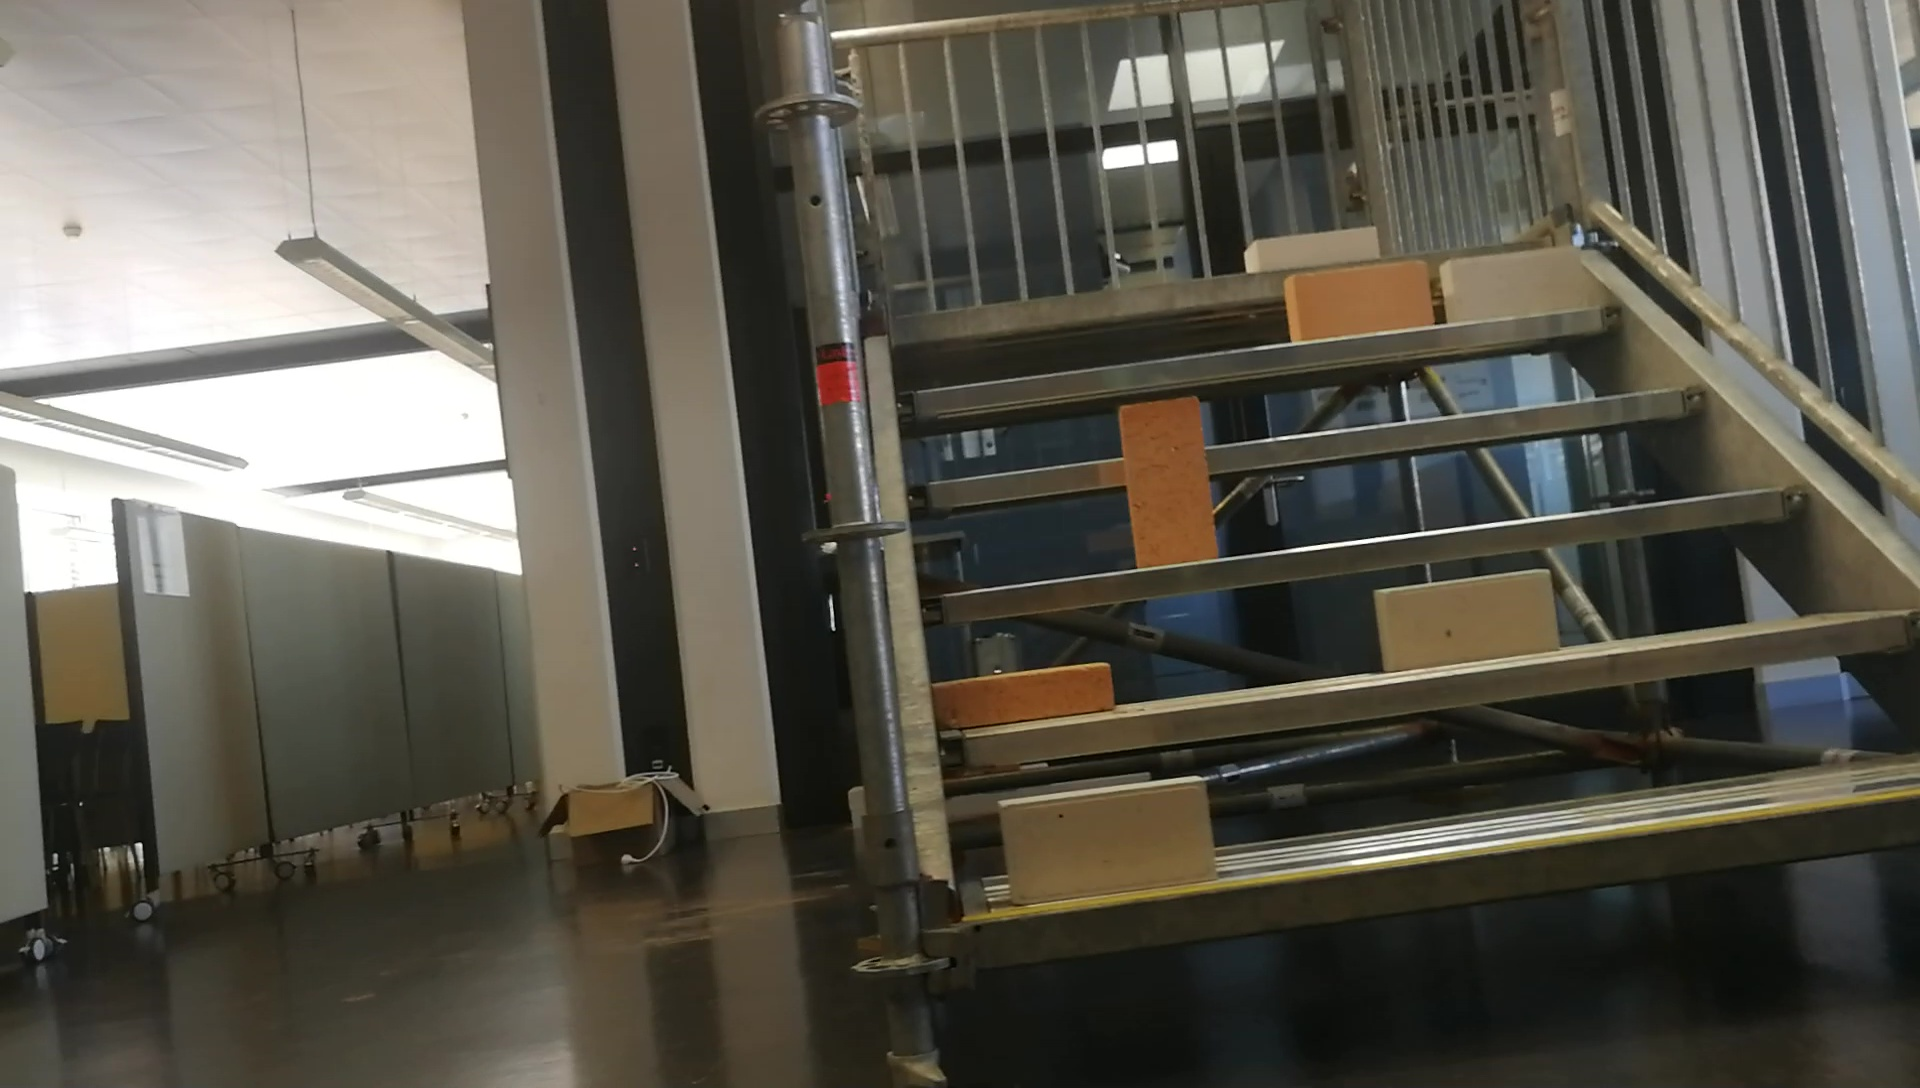brick: (1001, 778, 1212, 902), (1375, 570, 1555, 670), (1120, 398, 1218, 568), (928, 662, 1110, 731), (1284, 260, 1431, 340), (1443, 248, 1582, 324), (1244, 226, 1373, 270)
edge: (969, 797, 1912, 969), (935, 609, 1917, 768), (923, 488, 1803, 620), (910, 390, 1702, 510), (899, 307, 1625, 413)
steps: (880, 207, 1915, 982)
